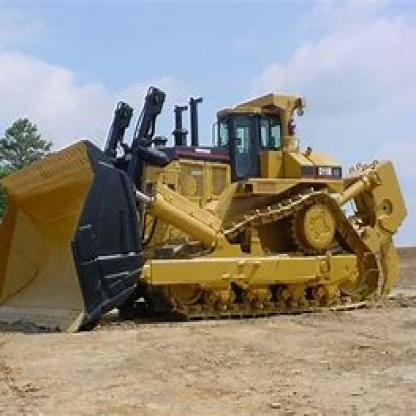bull_dozer/loader/grader: (0, 48, 414, 385)
